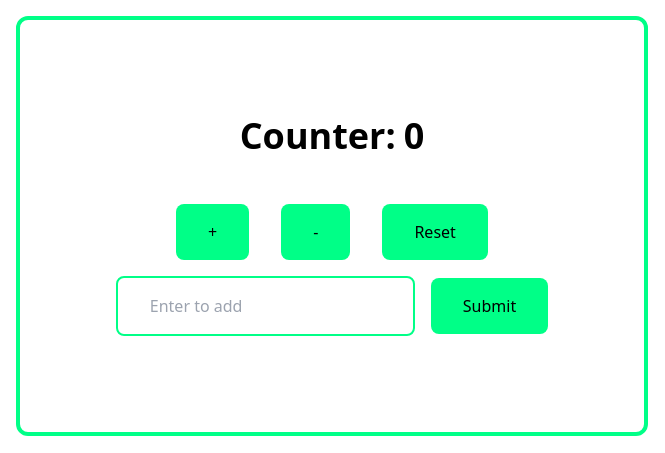
Test case: Counter Testing › test the increment
The image size is (665, 453).
Click the button "+": (213, 232) [176,204,249,260]
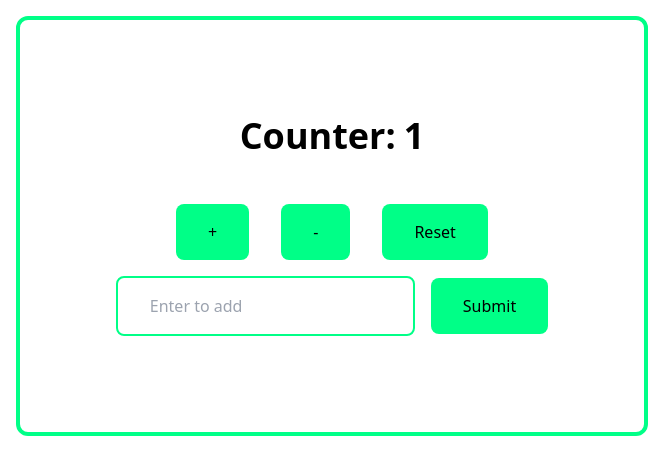
Check: the heading with test id "counter" reads "1", box [404,111,424,160]
